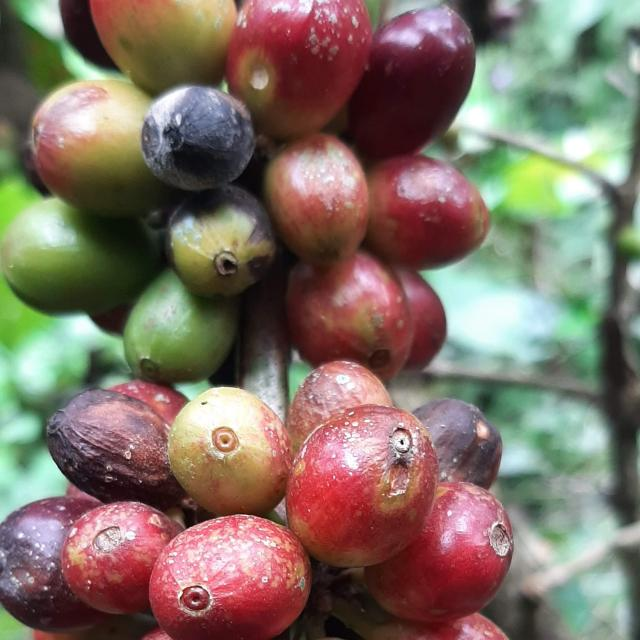green: (1, 197, 159, 315), (123, 268, 238, 384)
red: (349, 6, 476, 158), (46, 390, 185, 511), (0, 497, 109, 633), (167, 185, 276, 297), (141, 85, 256, 190), (413, 399, 503, 490)
yellow: (286, 405, 439, 568), (366, 483, 514, 623), (149, 515, 311, 640), (226, 0, 372, 138), (31, 79, 172, 216), (287, 250, 414, 381), (168, 387, 293, 517), (365, 154, 490, 269), (263, 132, 369, 264), (89, 0, 236, 94), (61, 503, 183, 615), (286, 361, 393, 453), (392, 266, 447, 369), (108, 380, 188, 426)
